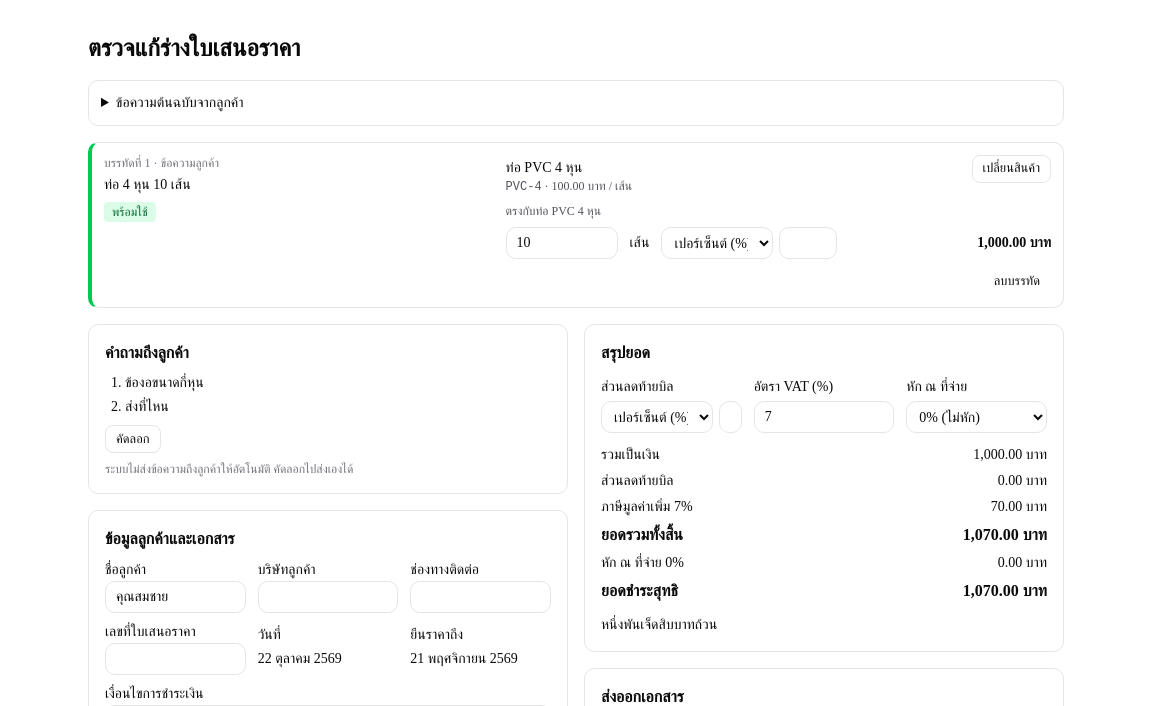
Test: number inputs › stores a valid quantity and reprices the line
Step 1. Replace the text in the field named "จำนวน บรรทัดที่ 1" with "2.5" → [562, 243], box [506,227,618,259]
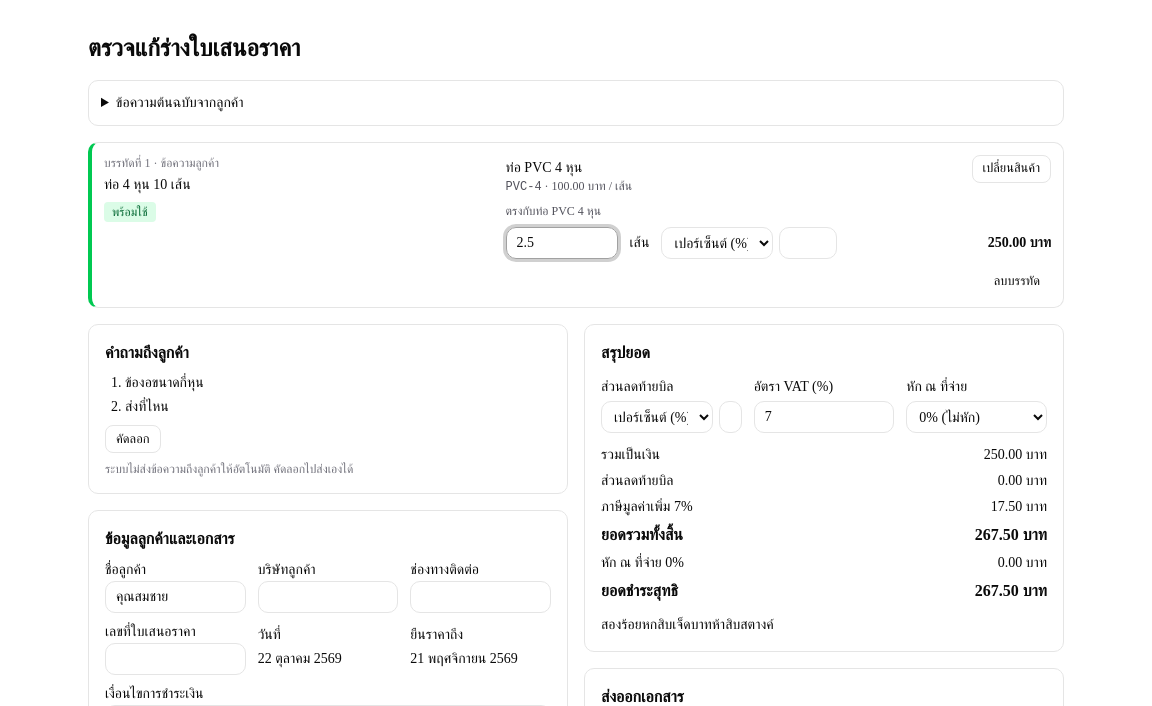
Check: the 1st text "250.00 บาท" is shown, box [988,235,1051,250]
